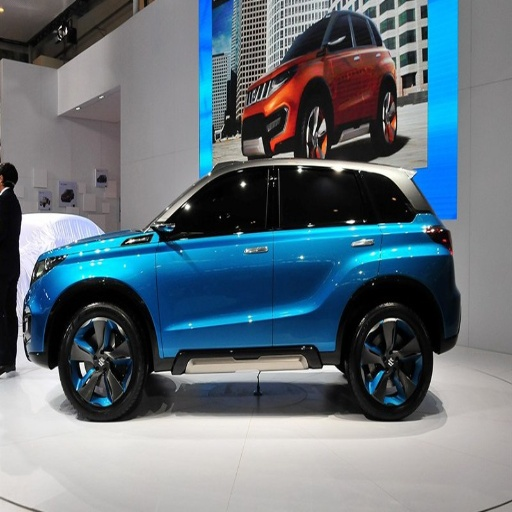back_left_door: (275, 159, 381, 346), (352, 13, 381, 115)
front_left_door: (156, 167, 275, 349), (324, 11, 361, 119)
